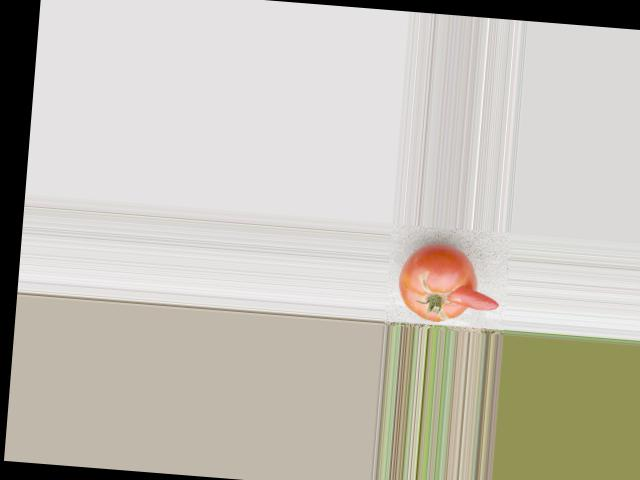tomato: (394, 242, 480, 324)
